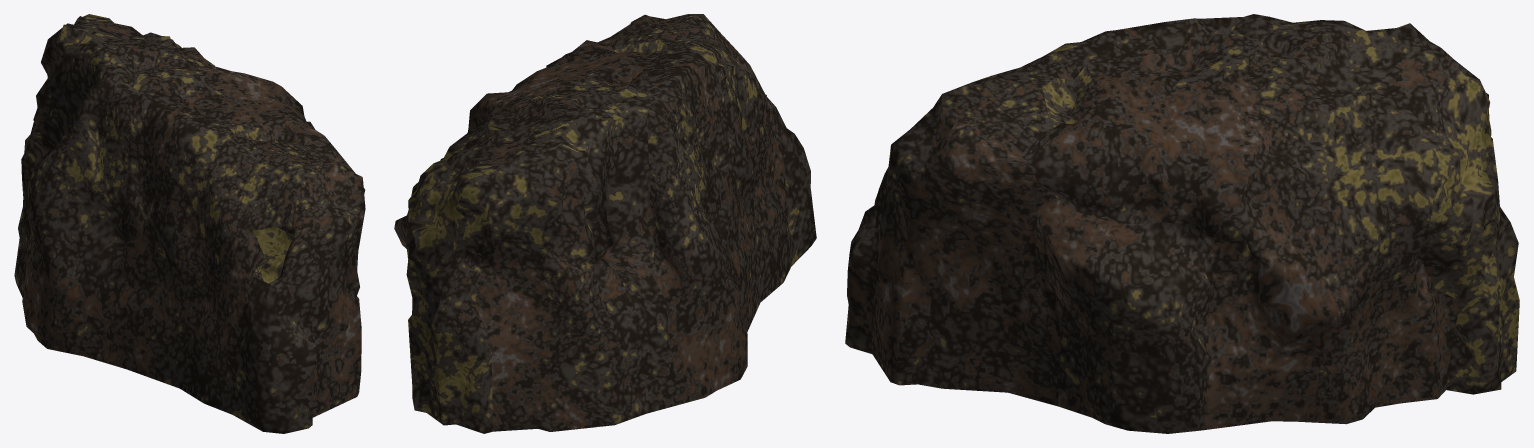
The model's file is SM_rock_02_brown.fbx.
3 renders of one model, left to right at view 1: azimuth 30°, elevation 25°; view 2: azimuth 150°, elevation 25°; view 3: azimuth 270°, elevation 25°, orthographic. The views are drawn at different scales.
Parts seen in each view (by area): view 1: SM_rock_02_brown_LOD0; view 2: SM_rock_02_brown_LOD0; view 3: SM_rock_02_brown_LOD0.
Part boxes in pixels (x1=…): SM_rock_02_brown_LOD0: x1=14, y1=14, x2=365, y2=433; SM_rock_02_brown_LOD0: x1=394, y1=14, x2=816, y2=433; SM_rock_02_brown_LOD0: x1=845, y1=14, x2=1519, y2=433.
Bounding box in the file's own units: 267 × 445 × 229.
1 material, 1 textured.
